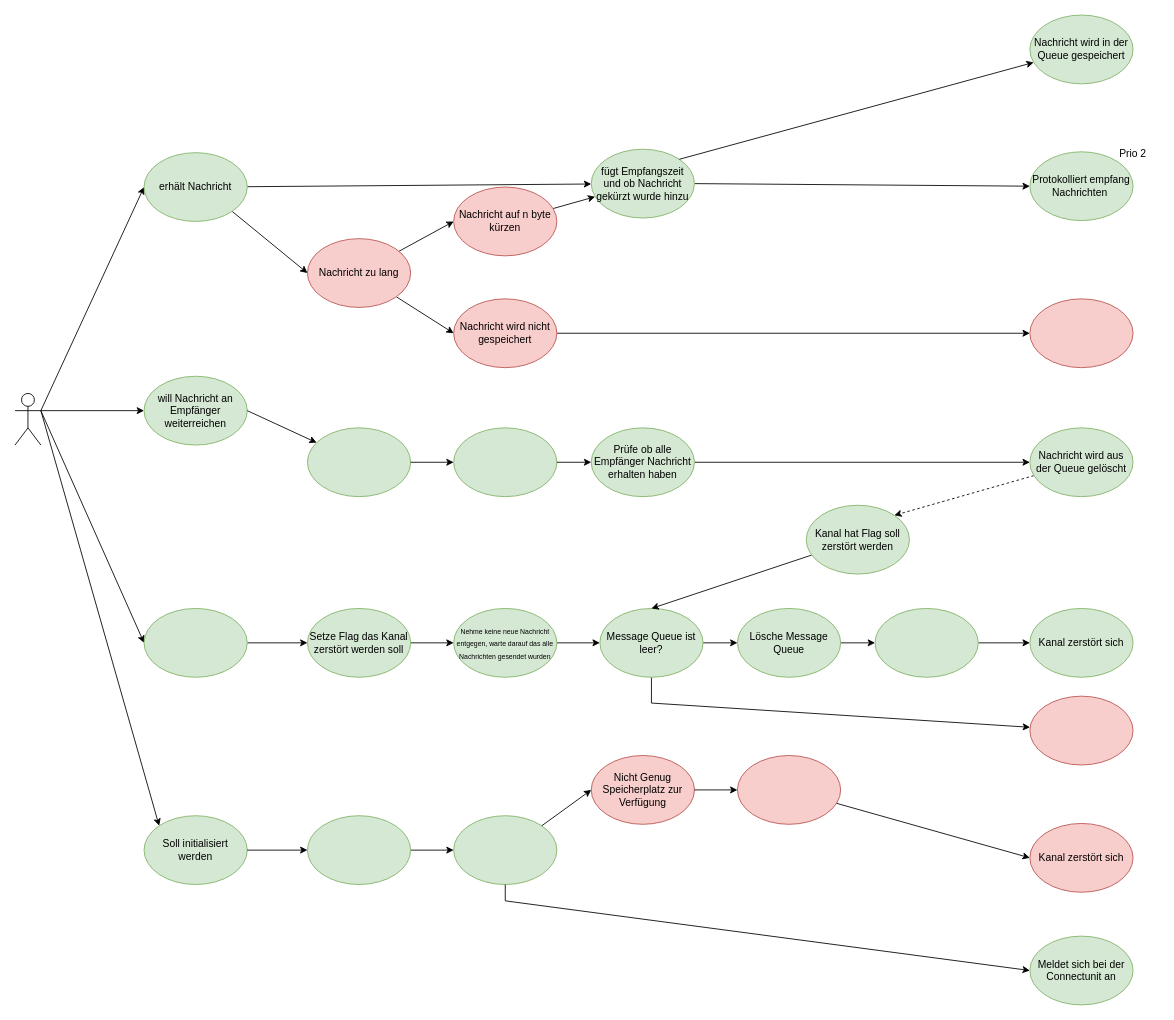
Some shapes in this 1174 by 1020 pixel diagram are drawn without their labels. The centre of each missing label's shape, as x and y in pixels:
"Kanal" goes at point 27,419.
"Kanal sendet Signal an Empfänger" goes at point 789,789.
"Lege Kanal an" goes at point 359,850.
"Lege Message Queue an" goes at point 505,850.
"Meldet sich bei Connectunit ab" goes at point 926,642.
"Message Queue ist nicht leer" goes at point 1081,730.
"Nachricht wird protokolliert" goes at point 1081,333.
"Proxy übersetzt Nachricht" goes at point 359,462.
"Soll zerstört werden" goes at point 195,642.
"Verschickt Nachricht" goes at point 505,462.
